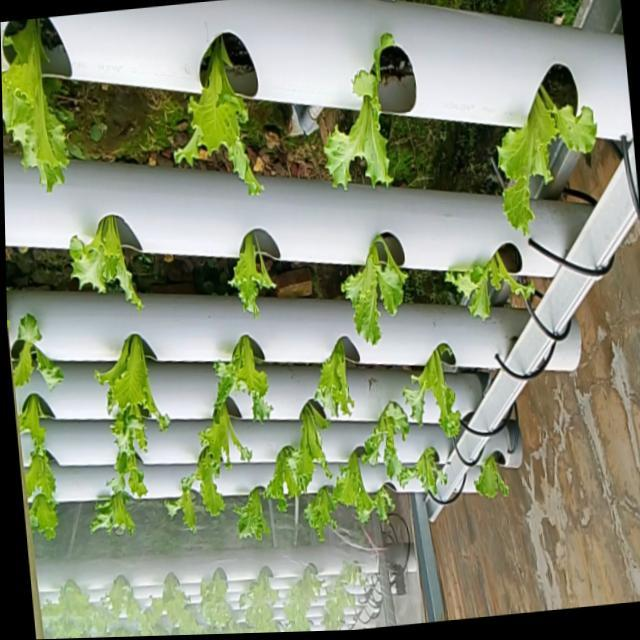Baby: (503, 86, 604, 237), (176, 36, 265, 197), (1, 17, 71, 191), (327, 34, 399, 188), (344, 238, 411, 349), (72, 215, 144, 311), (185, 398, 255, 495), (450, 257, 544, 326), (406, 347, 465, 441), (278, 400, 335, 497), (102, 334, 162, 417), (219, 461, 277, 546), (336, 451, 397, 525), (364, 401, 413, 485), (14, 313, 66, 389), (231, 234, 277, 319), (110, 389, 152, 479), (229, 336, 272, 421), (317, 339, 357, 418), (26, 448, 59, 529), (402, 448, 451, 502), (165, 473, 208, 531), (92, 490, 137, 533), (306, 485, 340, 541), (477, 461, 513, 503)
